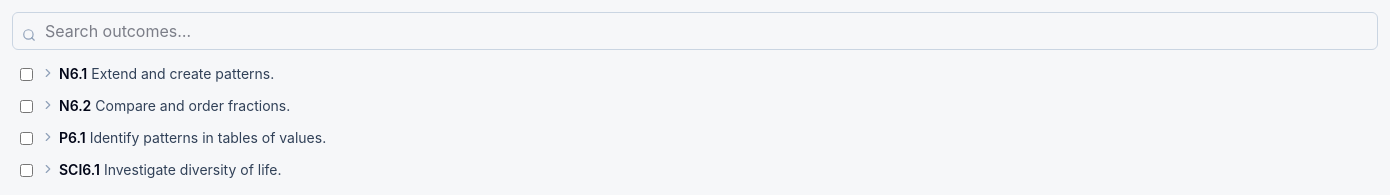
Scenario: OutcomePicker › filters to outcomes whose code or description matches the search text
Type "pattern" into the field with placeholder "Search outcomes…".
click(695, 31); type("pattern")  # box [12,12,1378,50]
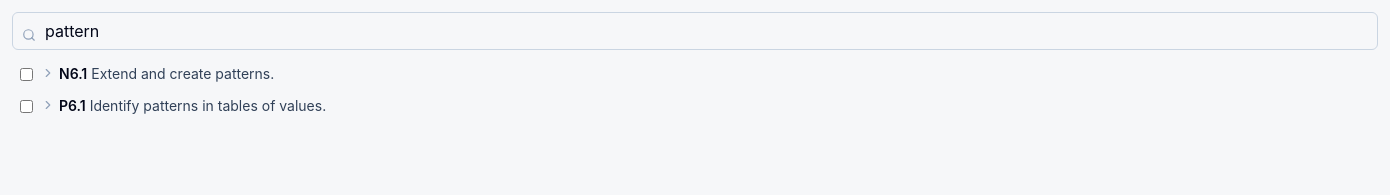
Expected: the text "N6.1" is shown, [59,65,87,82]
Expected: the button "N6.2" is gone
